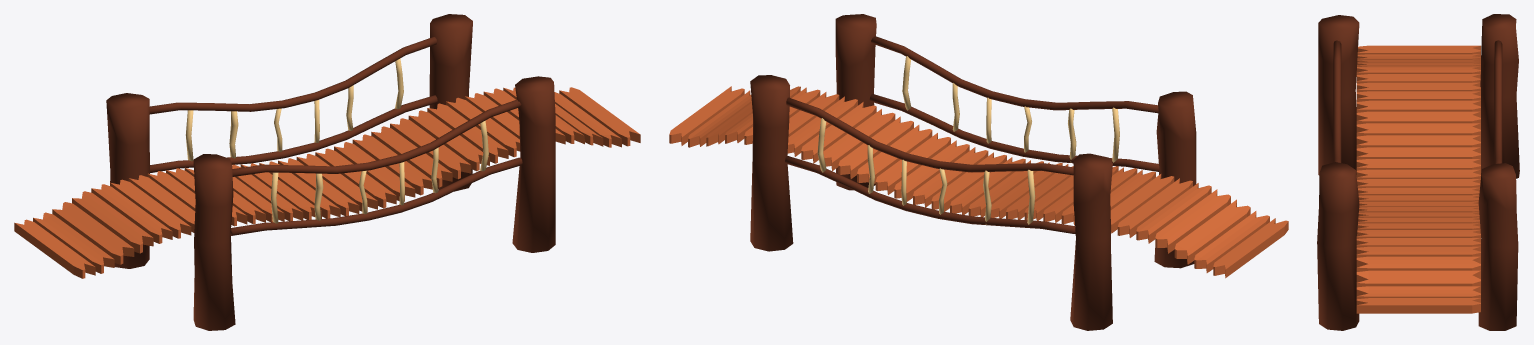
File: Bridge.fbx
3 renders of one model, left to right at view 1: azimuth 30°, elevation 25°; view 2: azimuth 150°, elevation 25°; view 3: azimuth 270°, elevation 25°, orthographic. The views are drawn at different scales.
Visible parts, largest first — view 1: Cylinder.011; view 2: Cylinder.011; view 3: Cylinder.011.
Boxes of the visible parts, x1,y1,x2,y2 form: Cylinder.011: (14,14,640,330); Cylinder.011: (669,14,1288,330); Cylinder.011: (1317,14,1519,330).
Bounding box in the file's own units: 174 × 47.61 × 57.62.
